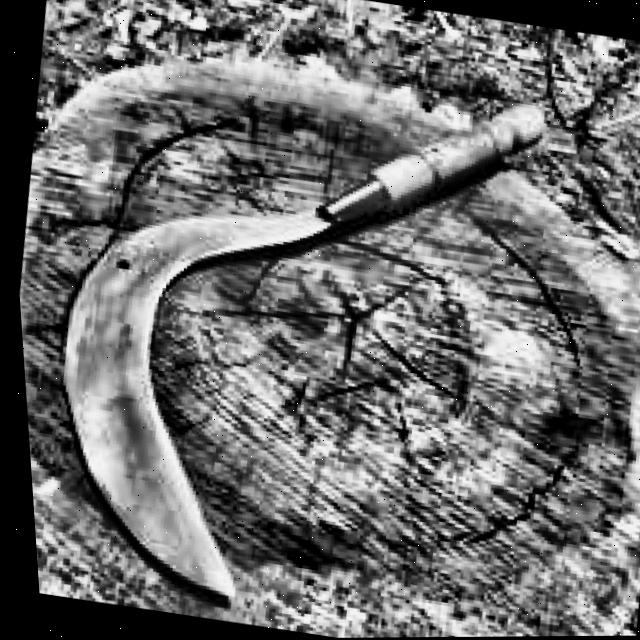celurit: (43, 91, 577, 623)
